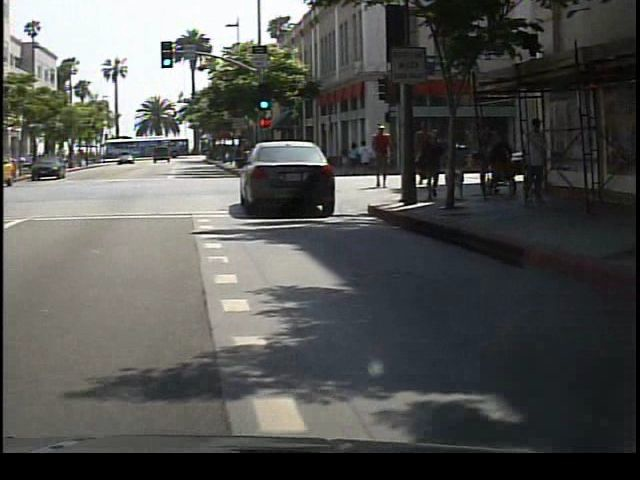person: (371, 121, 402, 197)
